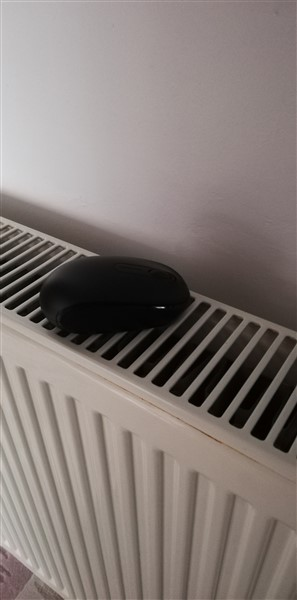mouse: (32, 249, 201, 346)
